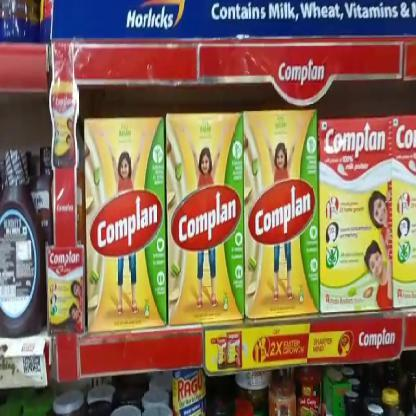Complan Pista Badam: (86, 118, 165, 333), (168, 115, 244, 326), (246, 111, 316, 317), (320, 116, 392, 310)
